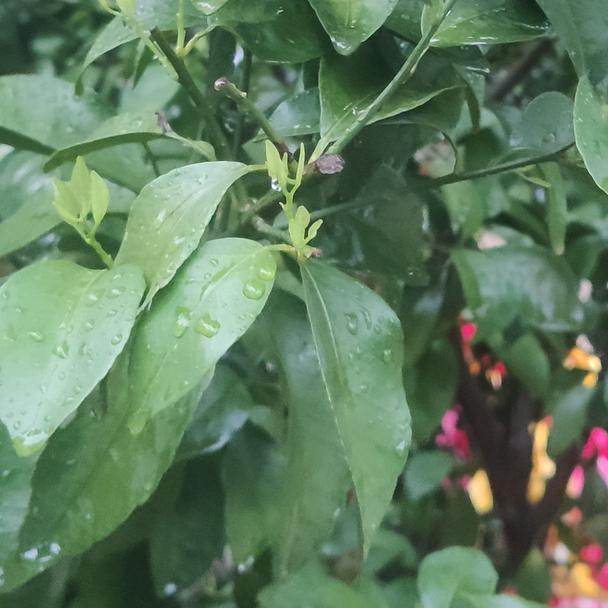shoot: (52, 166, 111, 243), (262, 142, 309, 206)
